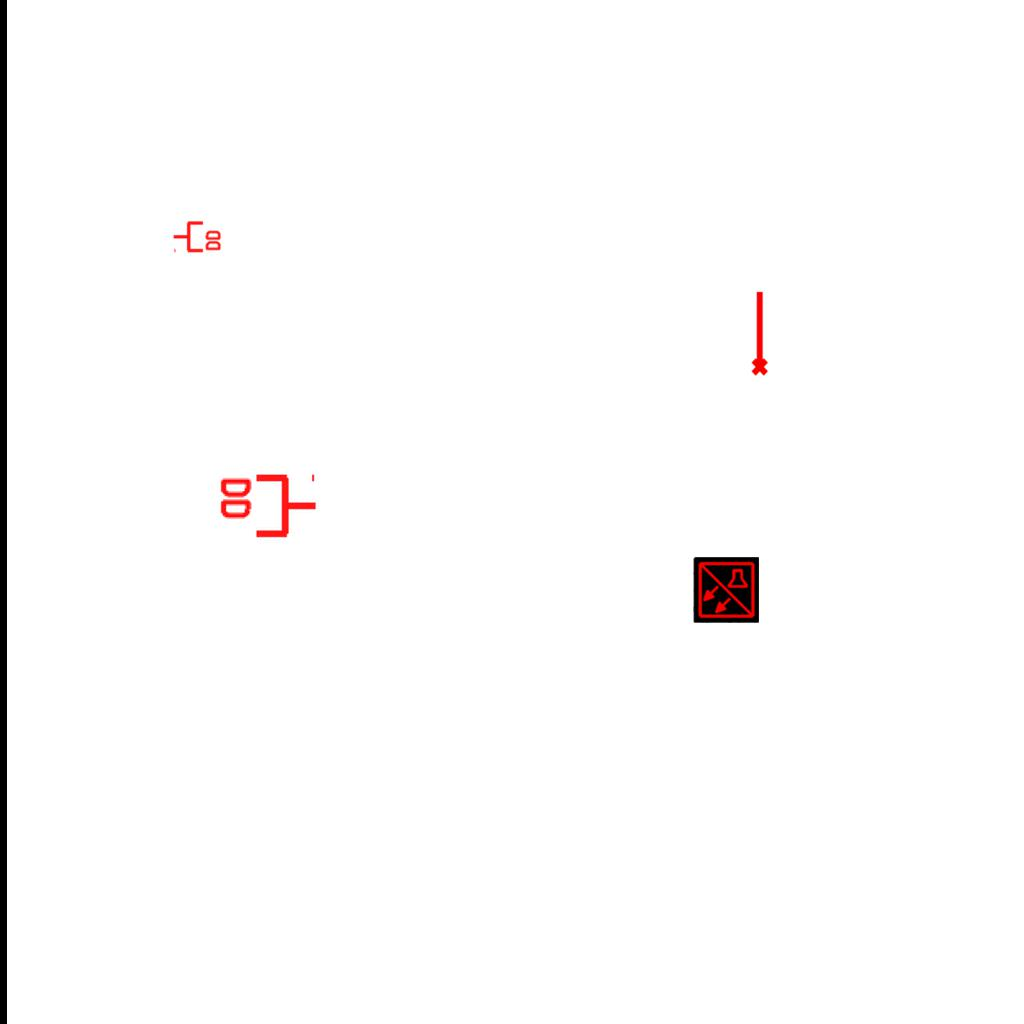ASR_Ansaugoeffnung: (747, 289, 770, 377)
Datenanschluss_zweifach: (216, 473, 319, 542), (172, 219, 223, 253)
OKW_Multisensormelder_(Kombination_optischer_Rauch-Kahlenmonoxid_Waerme-Melder): (693, 557, 759, 623)
